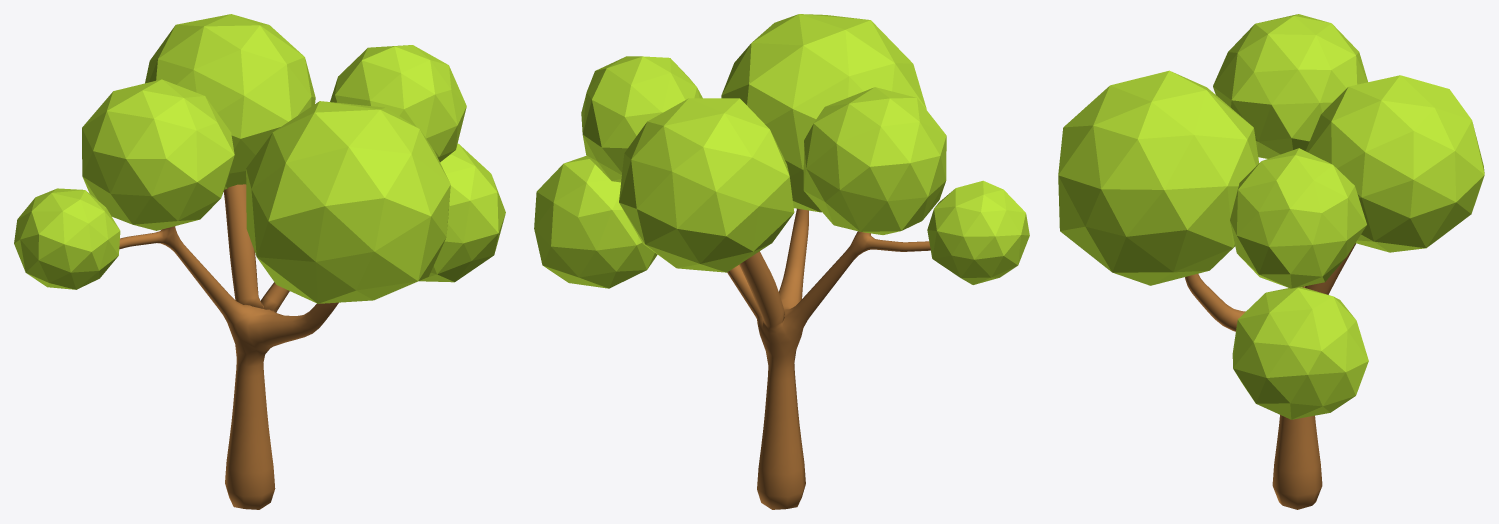
File: rgr-tree.fbx
The picture shows the model from 3 angles, left to right: view 1: azimuth 30°, elevation 25°; view 2: azimuth 150°, elevation 25°; view 3: azimuth 270°, elevation 25°; orthographic projection. The views are drawn at different scales.
Visible parts, largest first — view 1: Plane.001; view 2: Plane.001; view 3: Plane.001.
Part boxes in pixels (<box>): Plane.001: <box>14,14,505,509</box>; Plane.001: <box>534,14,1029,509</box>; Plane.001: <box>1058,14,1484,509</box>.
Bounding box in the file's own units: 1069 × 943 × 830.
